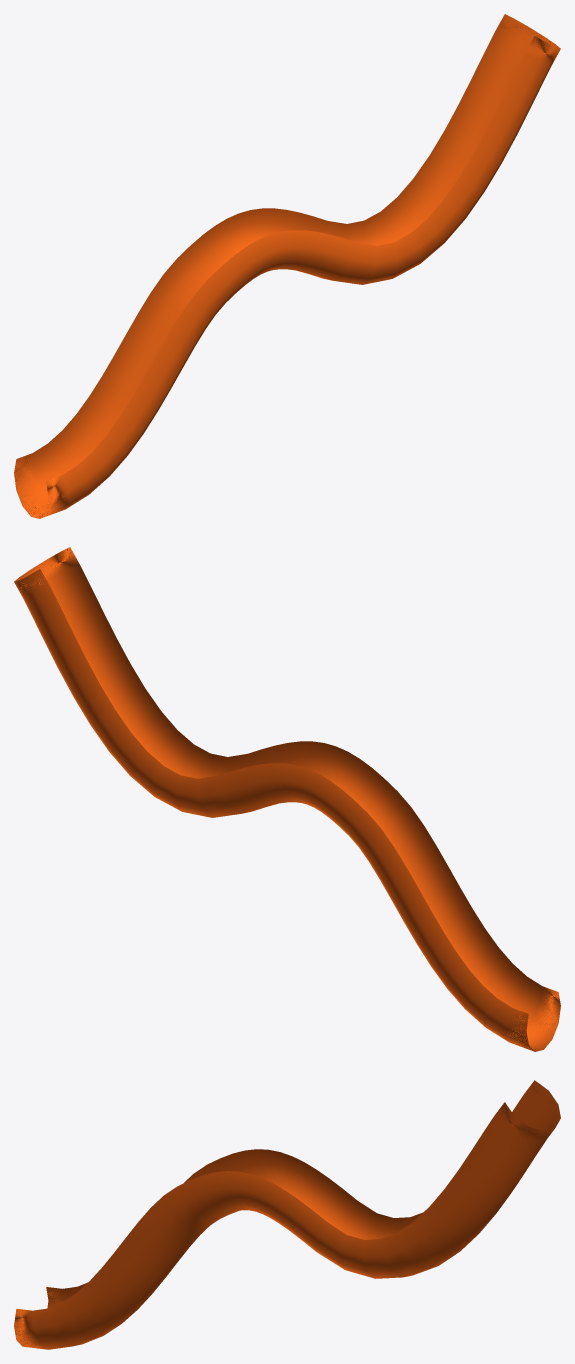
Rendered from tobogan3.fbx.
3 renders of one model, top to bottom at view 1: azimuth 30°, elevation 25°; view 2: azimuth 150°, elevation 25°; view 3: azimuth 330°, elevation 25°, orthographic.
Parts seen in each view (by area): view 1: BézierCurve; view 2: BézierCurve; view 3: BézierCurve.
Boxes of the visible parts, x1,y1,x2,y2 form: BézierCurve: [14, 14, 560, 518]; BézierCurve: [14, 547, 560, 1051]; BézierCurve: [14, 1080, 560, 1349].
Bounding box in the file's own units: 598 × 406 × 68.
